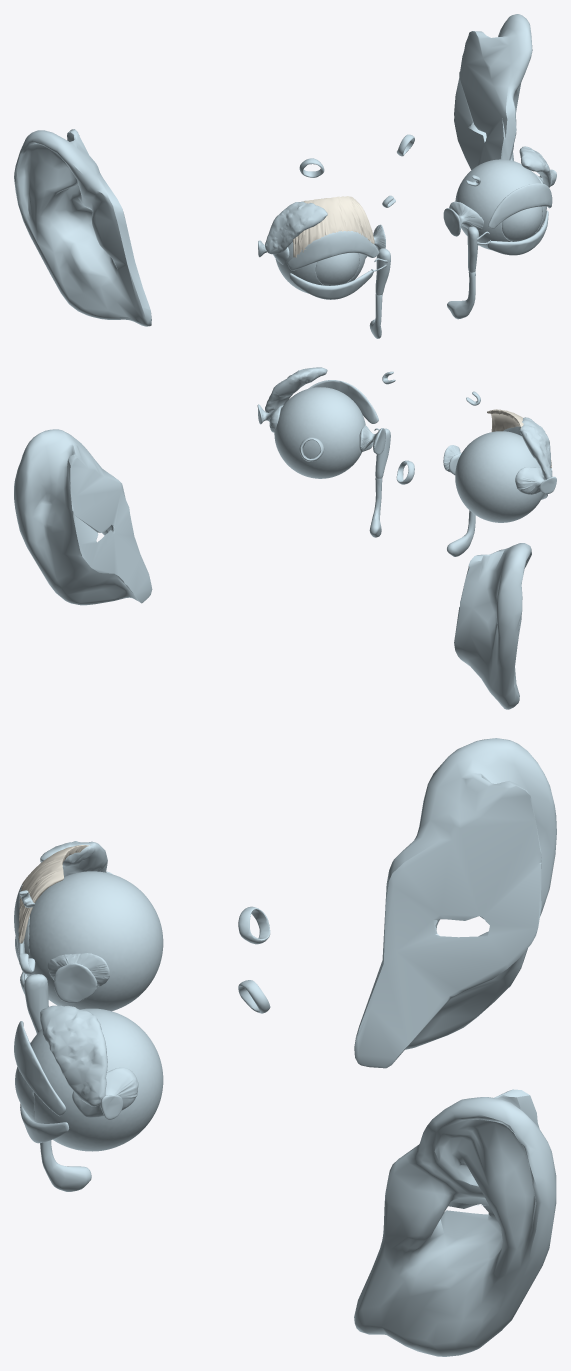
The model's file is sens-tete.hi.glb.
3 renders of one model, top to bottom at view 1: azimuth 30°, elevation 25°; view 2: azimuth 150°, elevation 25°; view 3: azimuth 270°, elevation 25°, orthographic. The views are drawn at different scales.
Parts seen in each view (by area): view 1: FJ2811, FJ1317, FJ1343, FJ1350, FJ1375, FJ1324, FJ1340, FJ1289, FJ1379, FJ1292, FJ1368, FJ1328 (+4 smaller); view 2: FJ2811, FJ1317, FJ1368, FJ1350, FJ1299, FJ1334, FJ1324, FJ1343, FJ1292, FJ1353, FJ1302; view 3: FJ2811, FJ1368, FJ1317, FJ1299, FJ1335, FJ1284, FJ1324, FJ1343, FJ1350, FJ1302, FJ1360, FJ1342 (+1 smaller).
Boxes of the visible parts, x1,y1,x2,y2 form: FJ2811: (14, 14, 532, 326); FJ1317: (455, 159, 546, 250); FJ1343: (293, 196, 374, 257); FJ1350: (265, 201, 327, 254); FJ1375: (287, 231, 379, 270); FJ1324: (488, 183, 552, 228); FJ1340: (315, 253, 359, 285); FJ1289: (502, 206, 542, 241); FJ1379: (289, 269, 373, 299); FJ1292: (443, 201, 483, 236); FJ1368: (275, 241, 365, 293); FJ1328: (487, 210, 548, 255); FJ2811: (14, 429, 531, 709); FJ1317: (274, 387, 365, 478); FJ1368: (455, 431, 543, 522); FJ1350: (519, 417, 552, 479); FJ1299: (265, 367, 327, 412); FJ1334: (515, 467, 556, 494); FJ1324: (308, 380, 378, 423); FJ1343: (487, 409, 551, 467); FJ1292: (359, 425, 385, 454); FJ1353: (447, 510, 475, 556); FJ1302: (369, 477, 382, 537); FJ2811: (354, 738, 556, 1356); FJ1368: (29, 871, 163, 1011); FJ1317: (30, 1008, 163, 1151); FJ1299: (40, 1005, 107, 1106); FJ1335: (47, 953, 109, 1003); FJ1284: (72, 1067, 138, 1119); FJ1324: (14, 1021, 66, 1116); FJ1343: (18, 845, 90, 943); FJ1350: (40, 841, 107, 876); FJ1302: (40, 1140, 91, 1191); FJ1360: (24, 974, 48, 1033); FJ1342: (238, 906, 270, 944).
Bounding box in the file's own units: 0.1675 × 0.057 × 0.0997.
